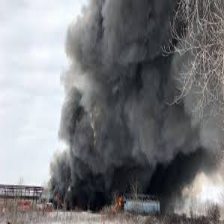smoke: (58, 2, 224, 206)
